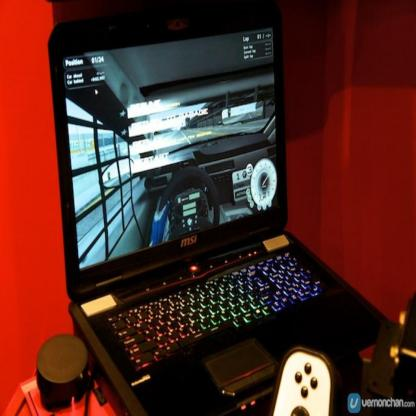board: (48, 0, 387, 415)
